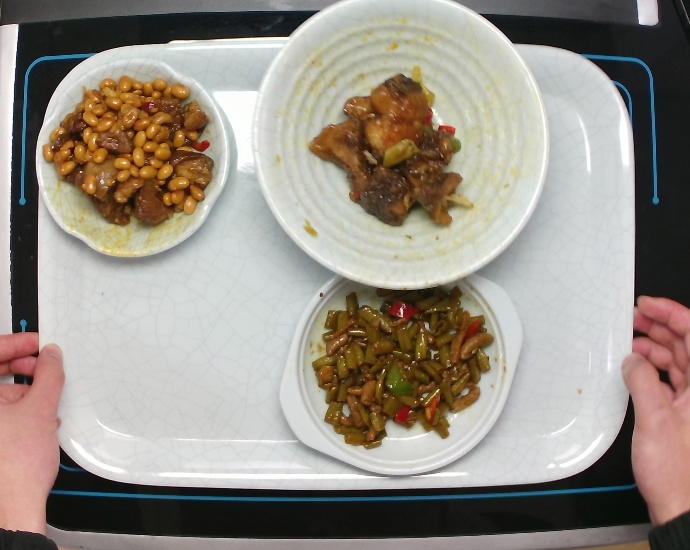JYsf-Ao_Yuan_Wan: (26, 55, 246, 272)
JYsf-Shuang_Er_Pan: (268, 253, 534, 482)
JYsf-Xiao_Tang_Wan: (231, 1, 552, 309)
